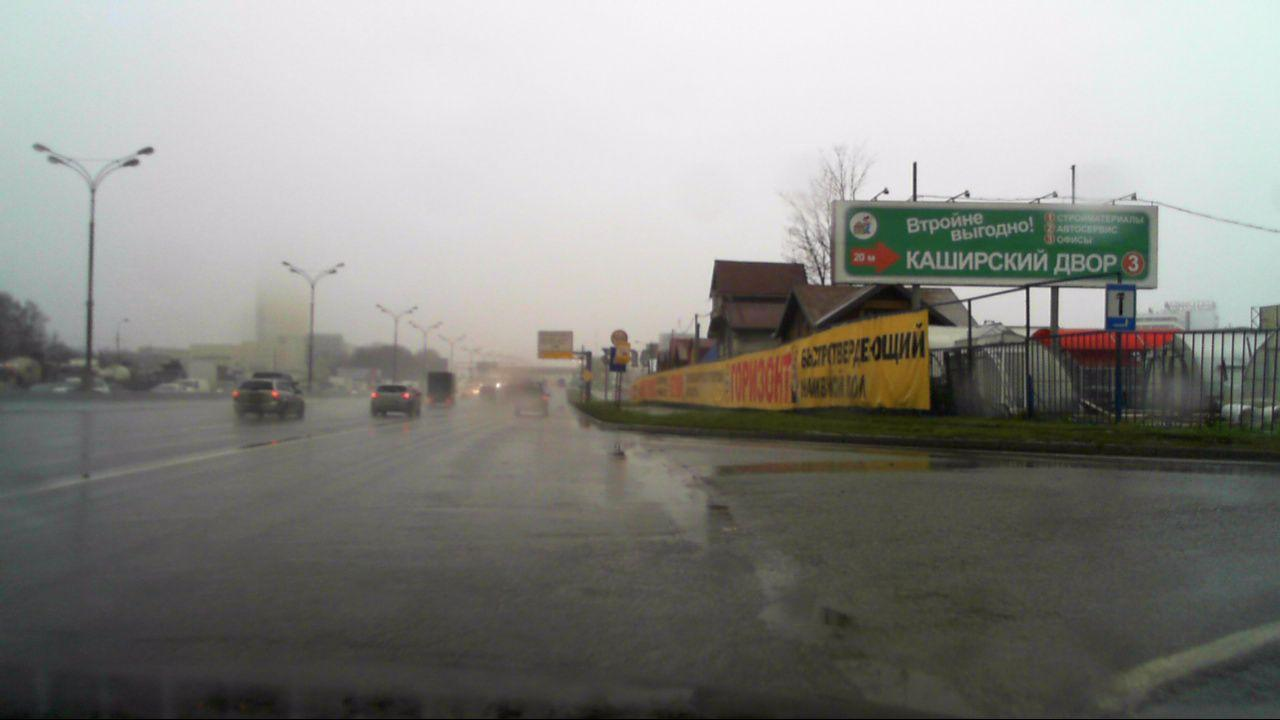3_24: (611, 329, 629, 347)
7_4: (1105, 285, 1136, 332)
